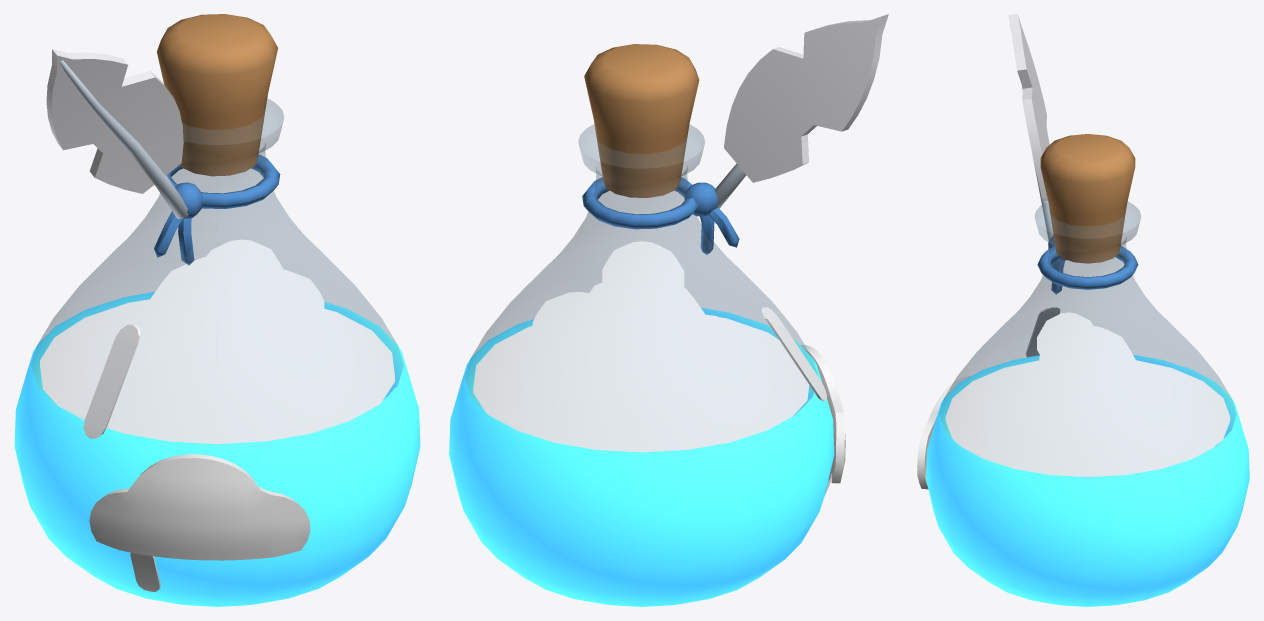
Rendered from item_skyleap_draught.glb.
3 views of the same model, side by side, from view 1: azimuth 30°, elevation 25°; view 2: azimuth 150°, elevation 25°; view 3: azimuth 270°, elevation 25° (orthographic). The views are drawn at different scales.
Parts seen in each view (by area): view 1: SkyleapDraught; view 2: SkyleapDraught; view 3: SkyleapDraught.
Boxes of the visible parts, x1,y1,x2,y2 form: SkyleapDraught: (14, 14, 420, 606); SkyleapDraught: (449, 14, 888, 606); SkyleapDraught: (917, 14, 1249, 606).
Bounding box in the file's own units: 0.2078 × 0.31 × 0.1944.
